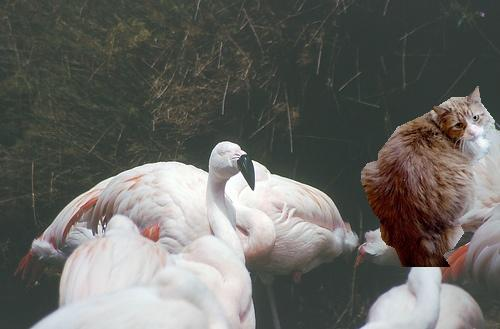tampered: (361, 87, 495, 267)
